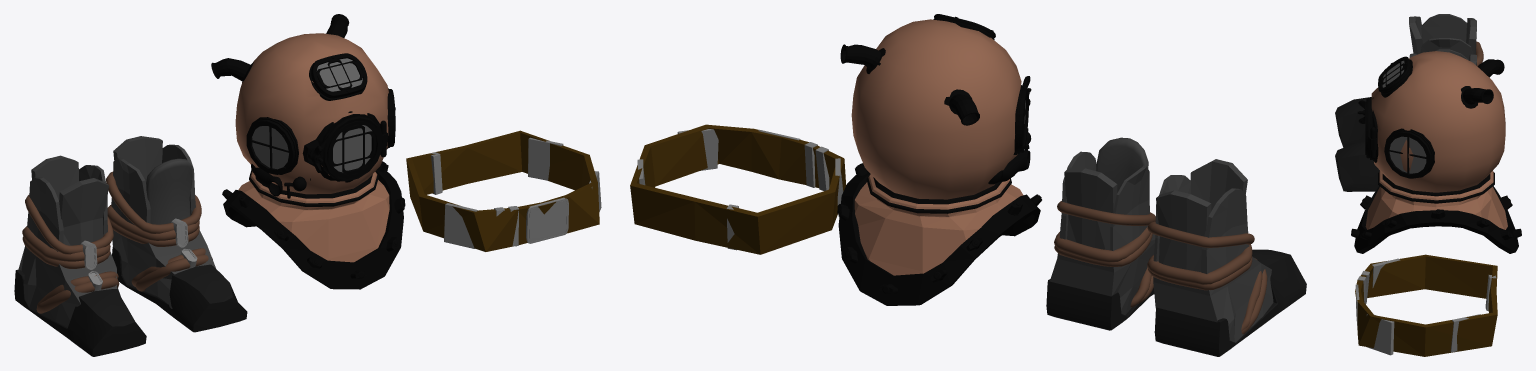
Rendered from Diver_2013.FBX.
3 renders of one model, left to right at view 1: azimuth 30°, elevation 25°; view 2: azimuth 150°, elevation 25°; view 3: azimuth 270°, elevation 25°, orthographic. The views are drawn at different scales.
Parts seen in each view (by area): view 1: Helmet_Parts, Helmet, BootL, BootR, Belt; view 2: Helmet, BootL, Belt, BootR, Helmet_Parts; view 3: Helmet, Belt, Helmet_Parts, BootL, BootR.
Boxes of the visible parts, x1=… form: Helmet_Parts: x1=211, y1=14, x2=405, y2=289; Helmet: x1=235, y1=33, x2=389, y2=262; BootL: x1=14, y1=155, x2=146, y2=356; BootR: x1=106, y1=136, x2=247, y2=332; Belt: x1=406, y1=130, x2=601, y2=251; Helmet: x1=851, y1=19, x2=1023, y2=275; BootL: x1=1147, y1=159, x2=1306, y2=356; Belt: x1=630, y1=124, x2=846, y2=254; BootR: x1=1046, y1=137, x2=1155, y2=330; Helmet_Parts: x1=837, y1=14, x2=1041, y2=305; Helmet: x1=1365, y1=51, x2=1507, y2=235; Belt: x1=1355, y1=254, x2=1497, y2=356; Helmet_Parts: x1=1351, y1=56, x2=1521, y2=253; BootL: x1=1335, y1=14, x2=1483, y2=147; BootR: x1=1335, y1=49, x2=1476, y2=191.
Bounding box in the file's own units: 123 × 46.61 × 41.7.
